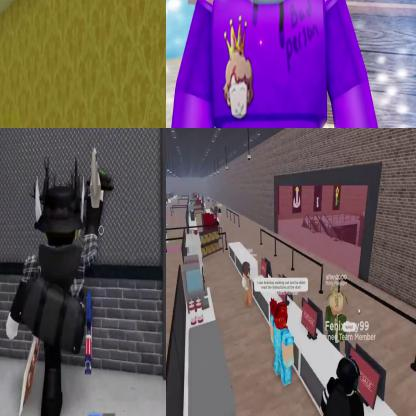Roblox-Avatar: (7, 149, 115, 416), (170, 1, 382, 128), (320, 357, 374, 416), (270, 299, 296, 388), (326, 289, 350, 353), (243, 262, 254, 310), (167, 226, 170, 256)
